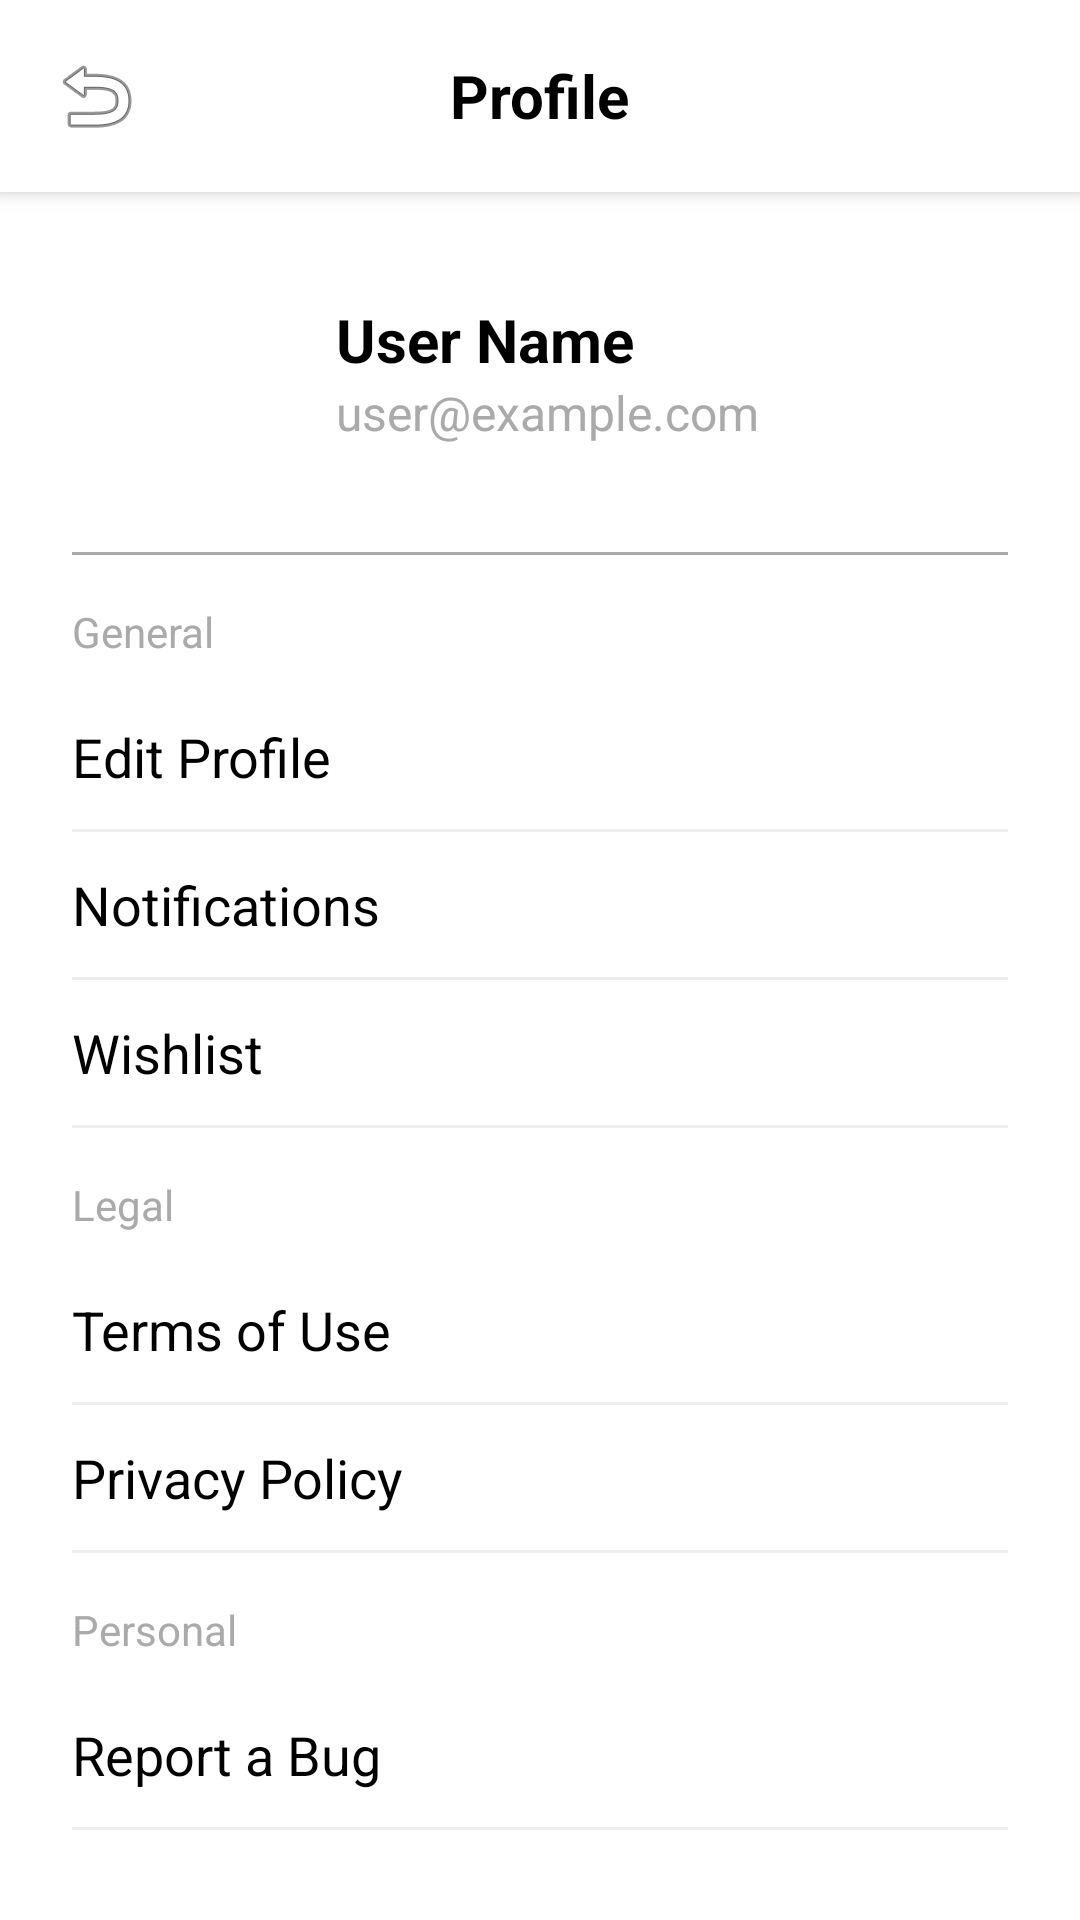

Icons on this 1080px x 1920px Android screen, each with its box as (left=x1, top=y1, right=x2, bottom=y2):
Back: (left=63, top=65, right=132, bottom=128)
